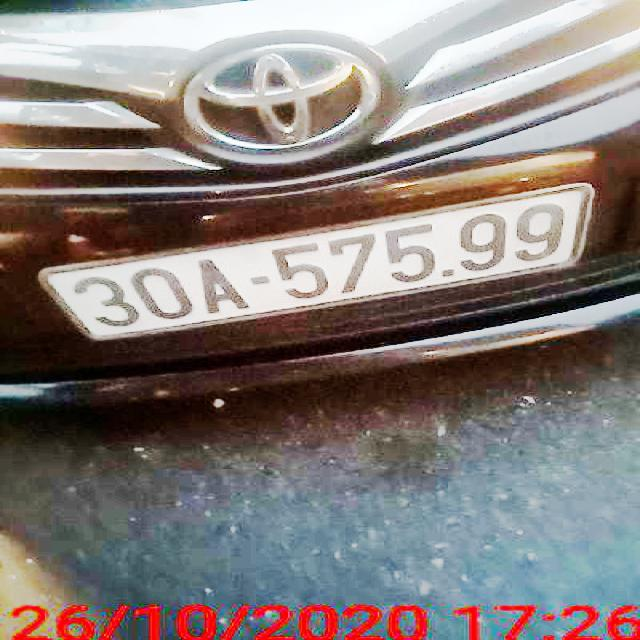license_plate: (45, 186, 587, 338)
